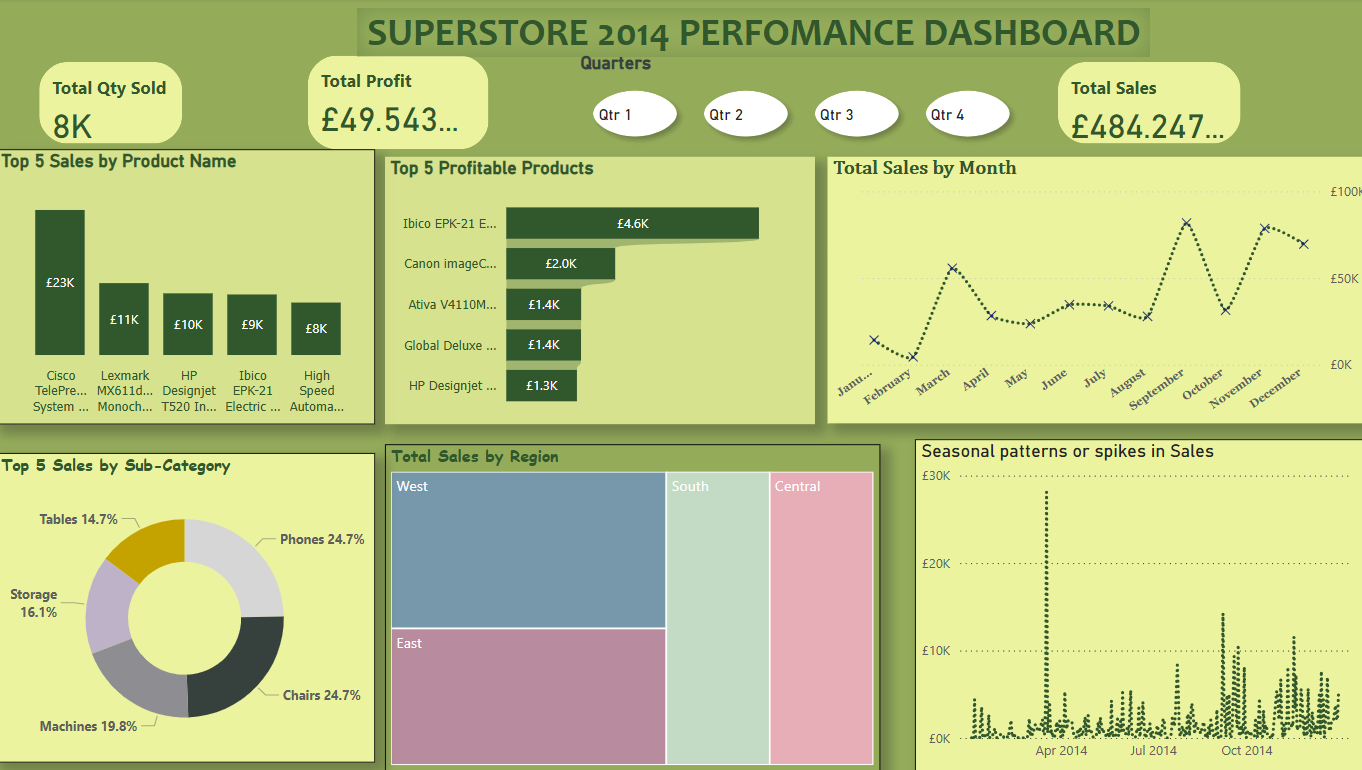

The dashboard page shown, as its layout file describes it:
{"tool":"powerbi","page":{"name":"Page 1","canvas":[1280,720],"ordinal":0},"visuals":[{"type":"clusteredColumnChart","title":"Top 5 Sales by Product Name","fields":{"Y":["Superstore.Total Sales"],"Category":["Superstore.Product Name"]},"box":[0,147.7,353.5,255.8],"z":0},{"type":"barChart","title":"Top 5 Profitable Products","fields":{"Category":["Superstore.Product Name"],"Y":["Superstore.Total Profit"]},"box":[362.8,147.7,400,248.8],"z":1000},{"type":"treemap","fields":{"Group":["Superstore.Region"],"Values":["Superstore.Total Sales"]},"box":[362.8,415.1,460.5,304.7],"z":2000},{"type":"cardVisual","title":"Total Sales","fields":{"Data":["Superstore.Total Sales"]},"box":[964,54.7,220.9,86],"z":3000},{"type":"cardVisual","title":"Total Qty sold","fields":{"Data":["Superstore.Total Qty Sold"]},"box":[16.3,54.7,183.7,86],"z":4000},{"type":"lineChart","fields":{"Y":["Superstore.Total Sales"],"Category":["Superstore.Order Date.Variation.Date Hierarchy.Month"]},"box":[765.1,148.8,505.8,247.7],"z":5000},{"type":"lineChart","title":"Seasonal patterns or spikes in Sales","fields":{"Y":["Superstore.Total Sales"],"Category":["Superstore.Order Date.Variation.Date Hierarchy.Year","Superstore.Order Date.Variation.Date Hierarchy.Quarter","Superstore.Order Date.Variation.Date Hierarchy.Month","Superstore.Order Date.Variation.Date Hierarchy.Day"]},"box":[846.5,410.5,424.4,309.3],"z":6000},{"type":"cardVisual","title":"Total Sales","fields":{"Data":["Superstore.Total Profit"]},"box":[266.3,48.8,218.6,97.7],"z":7000},{"type":"textbox","title":"SUPERSTORE 2014 PERFOMANCE DASHBOARD","box":[337.2,9.3,737.2,45.3],"z":8000},{"type":"donutChart","title":"Top 5 Sales by Sub-Category","fields":{"Category":["Superstore.Sub-Category"],"Y":["Superstore.Total Sales"]},"box":[0,423.3,353.5,288.4],"z":9000},{"type":"advancedSlicerVisual","title":"Quarter of the Year","fields":{"Values":["Superstore.Order Date.Variation.Date Hierarchy.Quarter"]},"box":[531.4,70.9,348.8,90.7],"z":10000}]}

Visuals, with their boxes in screenshot pixels (x1, y1, x2, y2), scaled from the page's 1280x720 canvas onto the 1362x770 screenshot:
"Top 5 Sales by Product Name" clusteredColumnChart: (0, 158, 376, 432)
"Top 5 Profitable Products" barChart: (386, 158, 812, 424)
treemap - Superstore.Region x Superstore.Total Sales: (386, 444, 876, 769)
"Total Sales" cardVisual: (1026, 58, 1261, 150)
"Total Qty sold" cardVisual: (17, 58, 213, 150)
lineChart - Superstore.Total Sales x Superstore.Order Date.Variation.Date Hierarchy.Month: (814, 159, 1352, 424)
"Seasonal patterns or spikes in Sales" lineChart: (901, 439, 1352, 769)
"Total Sales" cardVisual: (283, 52, 516, 157)
"SUPERSTORE 2014 PERFOMANCE DASHBOARD" textbox: (359, 10, 1143, 58)
"Top 5 Sales by Sub-Category" donutChart: (0, 453, 376, 761)
"Quarter of the Year" advancedSlicerVisual: (565, 76, 937, 173)
